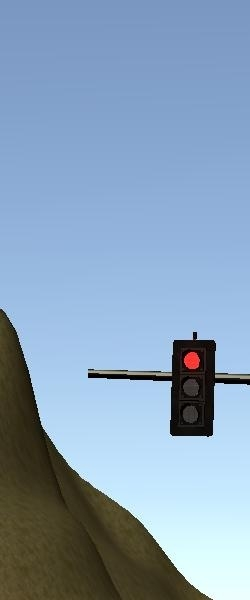Red: (172, 341, 215, 437)
